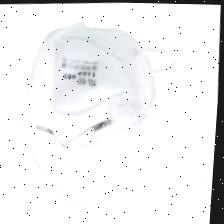mask: (4, 12, 217, 220)
